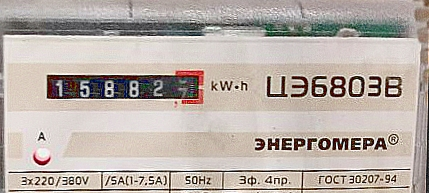1: (52, 77, 64, 96)
2: (151, 77, 163, 96)
5: (77, 77, 89, 98)
7: (176, 85, 187, 99)
8: (102, 77, 114, 98), (127, 78, 139, 99)
screen: (37, 60, 213, 111)
